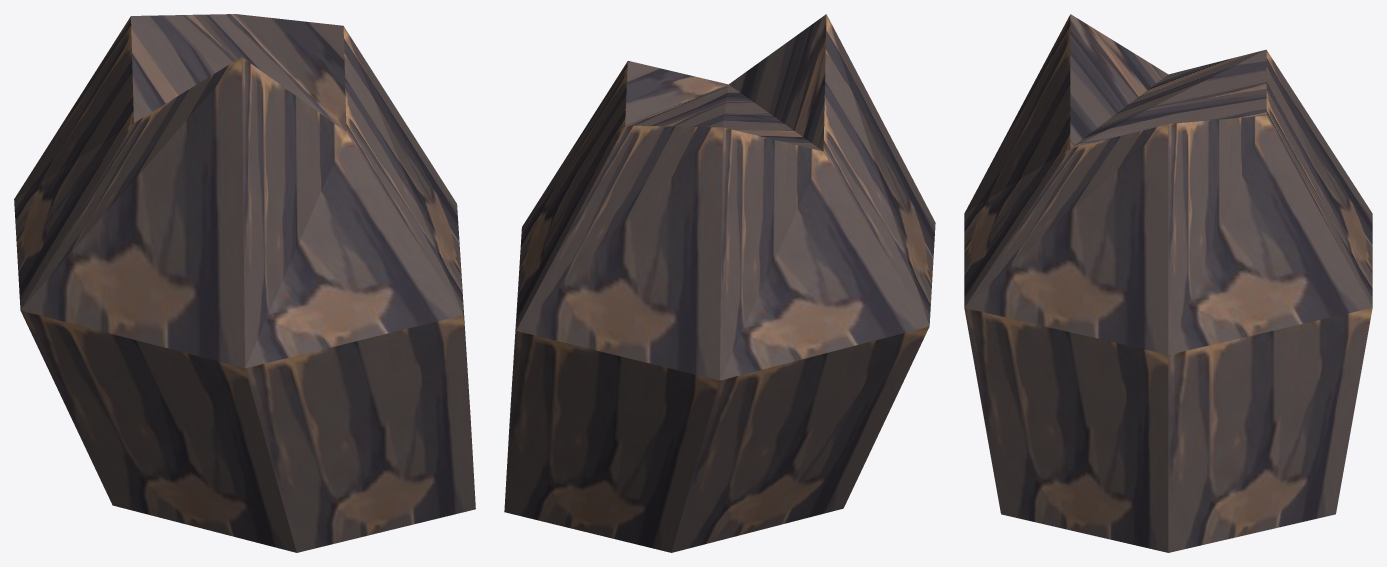
The model's file is SM_RC_Terrain_Rock_Small_A.gltf.
3 renders of one model, left to right at view 1: azimuth 30°, elevation 25°; view 2: azimuth 150°, elevation 25°; view 3: azimuth 270°, elevation 25°, orthographic. The views are drawn at different scales.
Parts seen in each view (by area): view 1: SM_RC_Terrain_Rock_Small_A; view 2: SM_RC_Terrain_Rock_Small_A; view 3: SM_RC_Terrain_Rock_Small_A.
Boxes of the visible parts, bbox=[...] form: SM_RC_Terrain_Rock_Small_A: bbox=[14, 14, 475, 552]; SM_RC_Terrain_Rock_Small_A: bbox=[504, 14, 935, 552]; SM_RC_Terrain_Rock_Small_A: bbox=[964, 14, 1372, 552].
Size of the model in its own units: 1.8 by 1.8 by 1.6.
Materials: 1 (1 with a texture image).
